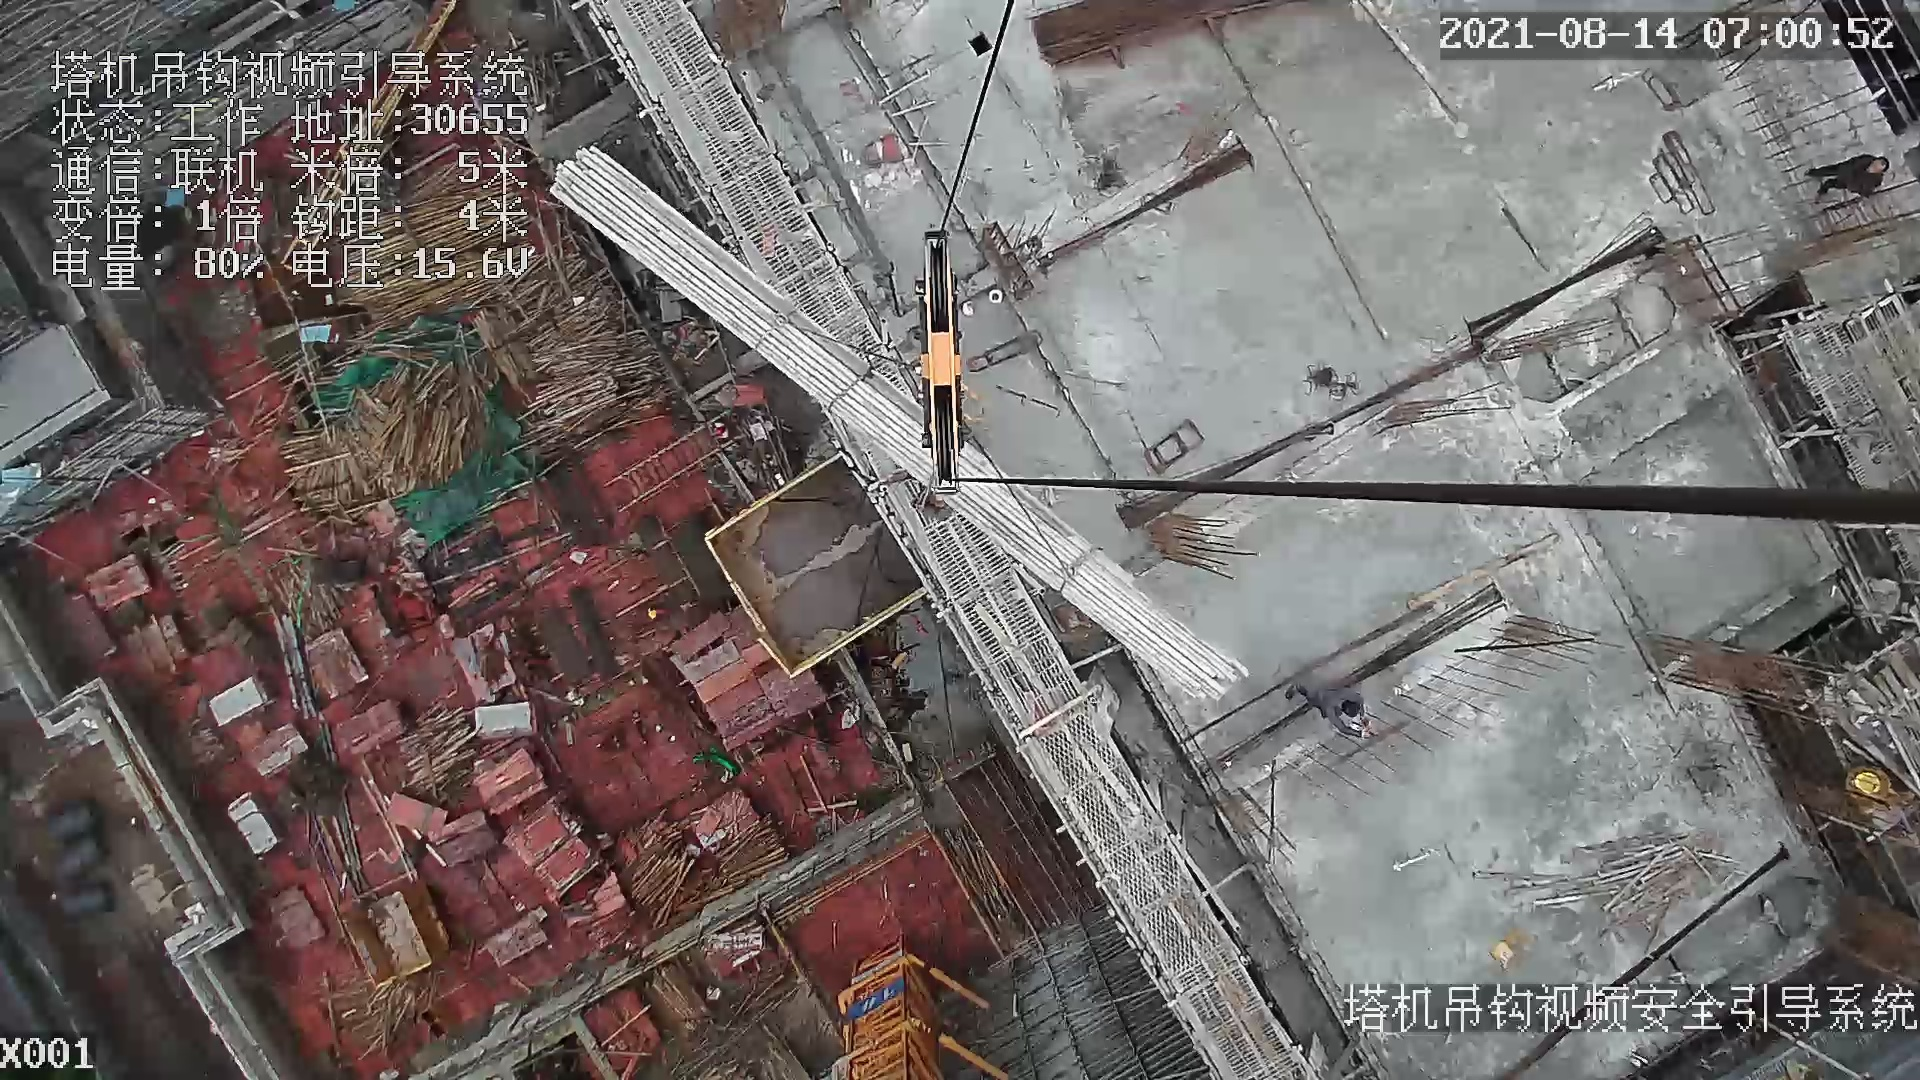hook: (905, 217, 974, 504)
person: (1295, 687, 1377, 742)
